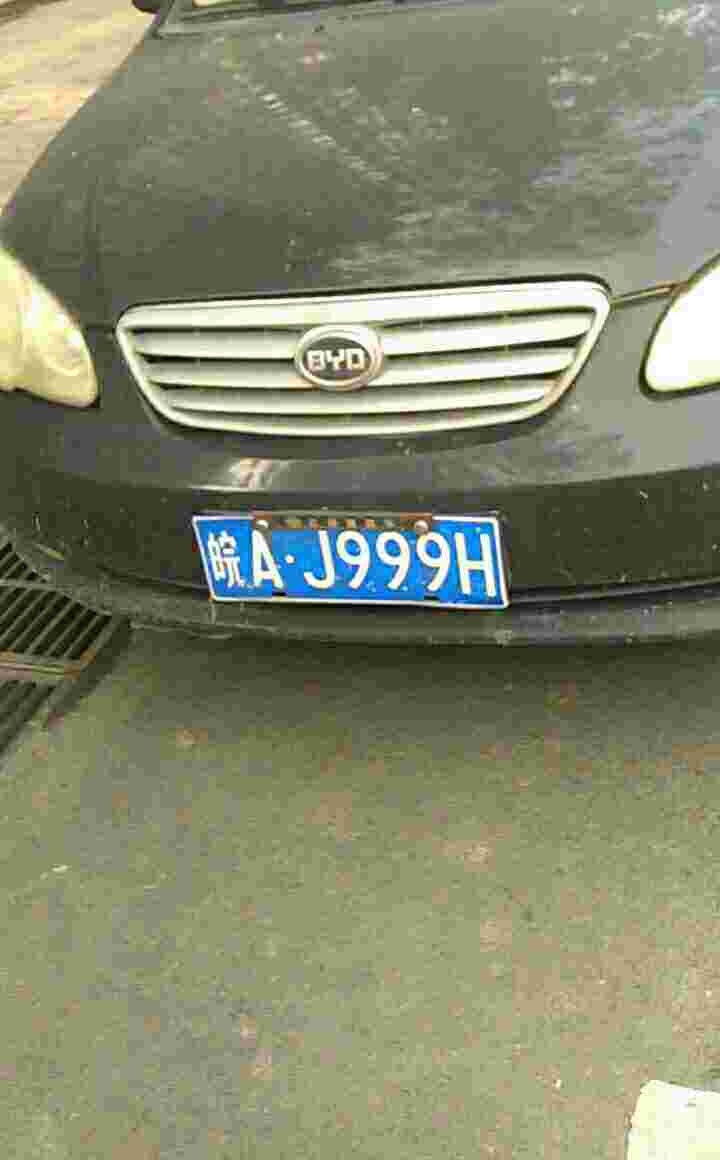license_plate: (202, 518, 500, 607)
